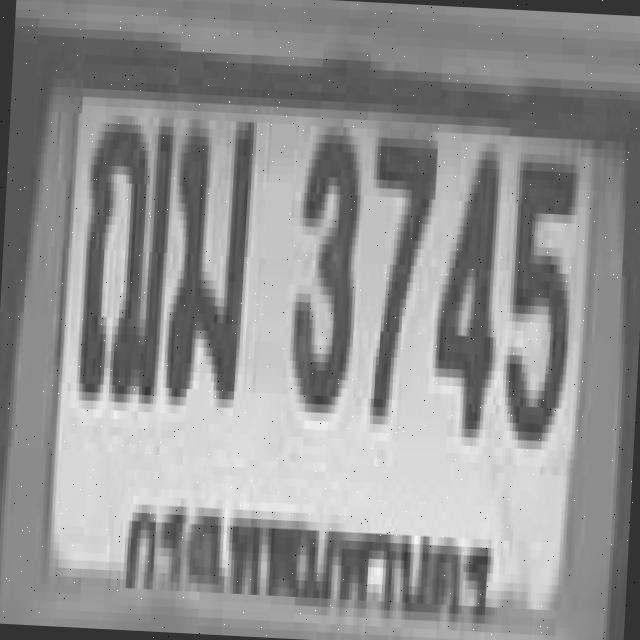21ChorChoe: (74, 114, 172, 396)
3: (288, 125, 362, 406)
4: (430, 141, 500, 430)
42MorMa: (162, 110, 255, 400)
5: (500, 149, 574, 438)
7: (362, 129, 436, 418)
Bangkok: (109, 481, 504, 634)
